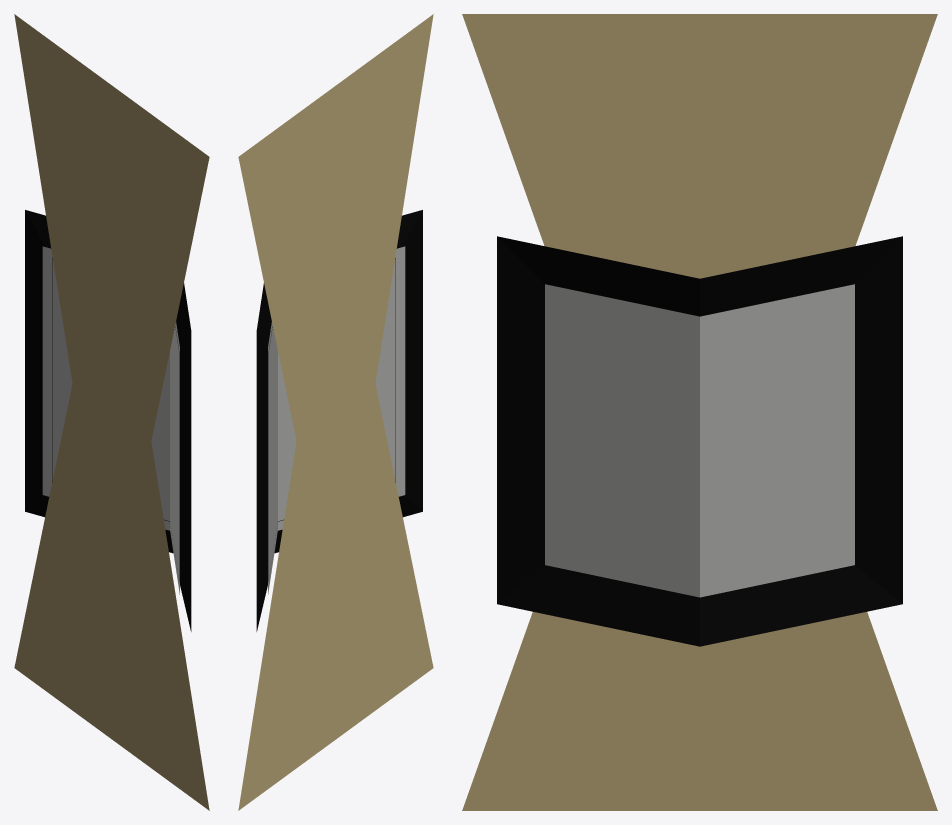
Rendered from lights.fbx.
The picture shows the model from 3 angles, left to right: view 1: azimuth 30°, elevation 25°; view 2: azimuth 150°, elevation 25°; view 3: azimuth 270°, elevation 25°; orthographic projection. The views are drawn at different scales.
Visible parts, largest first — view 1: light_fixture; view 2: light_fixture; view 3: light_fixture.
Part boxes in pixels (x1,y1,x2,y2): light_fixture: (14, 14, 209, 810); light_fixture: (238, 14, 433, 810); light_fixture: (462, 14, 937, 810).
Size of the model in its own units: 60.14 by 526 by 285.
